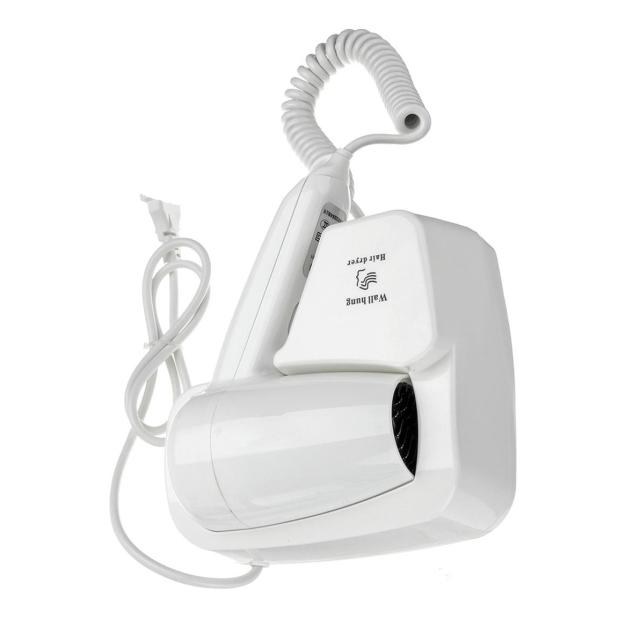dryer: (72, 6, 530, 610)
